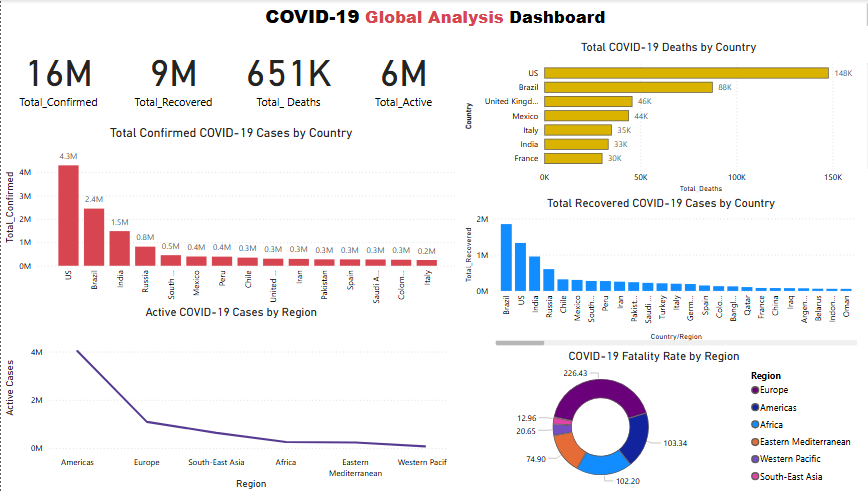

The page's visual inventory and layout, read from the dashboard file:
{"tool":"powerbi","page":{"name":"Page 1","canvas":[1280,720],"ordinal":0},"visuals":[{"type":"textbox","box":[0,0,1280.5,45.4],"z":0},{"type":"card","fields":{"Values":["Sum(Sheet1.Active Cases)"]},"box":[504.9,58.5,168.3,124.4],"z":1},{"type":"card","fields":{"Values":["Sum(Sheet1.Confirmed)"]},"box":[0,58.5,168.3,124.4],"z":2},{"type":"card","fields":{"Values":["Sum(Sheet1.Recovered)"]},"box":[168.3,58.5,168.3,124.4],"z":3},{"type":"card","fields":{"Values":["Sum(Sheet1.Deaths)"]},"box":[336.6,58.5,168.3,124.4],"z":4},{"type":"clusteredColumnChart","title":"Total Confirmed COVID-19 Cases by Country","fields":{"Y":["Sum(Sheet1.Confirmed)"],"Category":["Sheet1.Country/Region"]},"box":[0,182.9,673.2,300],"z":5},{"type":"lineChart","title":"Active COVID-19 Cases by Region","fields":{"Category":["Sheet1.WHO Region"],"Y":["Sum(Sheet1.Active Cases)"]},"box":[0,446.3,673.2,273.7],"z":6},{"type":"barChart","title":"Total COVID-19 Deaths by Country","fields":{"Category":["Sheet1.Country/Region"],"Y":["Sum(Sheet1.Deaths)"]},"box":[673.2,58.5,607.3,228.3],"z":7},{"type":"columnChart","title":"Total Recovered COVID-19 Cases by Country","fields":{"Y":["Sum(Sheet1.Recovered)"],"Category":["Sheet1.Country/Region"]},"box":[673.2,286.8,585.4,223.9],"z":8},{"type":"donutChart","title":"COVID-19 Fatality Rate by Region","fields":{"Category":["Sheet1.WHO Region"],"Y":["Sum(Sheet1.Fatality Rate)"]},"box":[652.7,510.7,605.9,209.3],"z":9}]}

Visuals, with their boxes in screenshot pixels (x1, y1, x2, y2), scaled from the page's 1280x720 canvas onto the 868x492 screenshot:
textbox: crop(0, 0, 867, 31)
card - Sum(Sheet1.Active Cases): crop(342, 40, 457, 125)
card - Sum(Sheet1.Confirmed): crop(0, 40, 114, 125)
card - Sum(Sheet1.Recovered): crop(114, 40, 228, 125)
card - Sum(Sheet1.Deaths): crop(228, 40, 342, 125)
"Total Confirmed COVID-19 Cases by Country" clusteredColumnChart: crop(0, 125, 457, 330)
"Active COVID-19 Cases by Region" lineChart: crop(0, 305, 457, 491)
"Total COVID-19 Deaths by Country" barChart: crop(457, 40, 867, 196)
"Total Recovered COVID-19 Cases by Country" columnChart: crop(457, 196, 853, 349)
"COVID-19 Fatality Rate by Region" donutChart: crop(443, 349, 853, 491)
